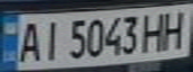0: (84, 16, 106, 57)
3: (121, 12, 145, 55)
4: (103, 14, 127, 56)
5: (63, 16, 87, 60)
A: (12, 18, 45, 63)
H: (139, 9, 172, 53), (160, 7, 190, 51)
I: (36, 17, 63, 62)
